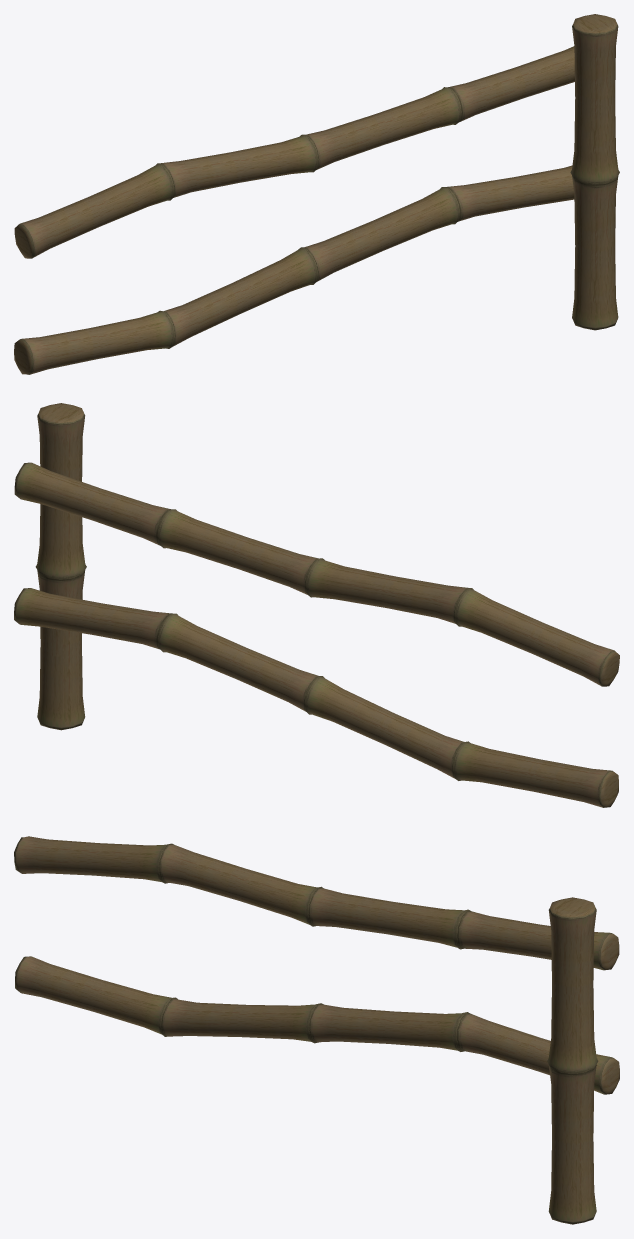
File: wall2.fbx
The picture shows the model from 3 angles, top to bottom: view 1: azimuth 30°, elevation 25°; view 2: azimuth 150°, elevation 25°; view 3: azimuth 330°, elevation 25°; orthographic projection. The views are drawn at different scales.
Visible parts, largest first — view 1: pCylinder65; view 2: pCylinder65; view 3: pCylinder65.
Boxes of the visible parts, left/top/right/bottom form: pCylinder65: left=14, top=14, right=619, bottom=374; pCylinder65: left=14, top=403, right=619, bottom=807; pCylinder65: left=14, top=836, right=619, bottom=1224.
Size of the model in its own units: 431 by 214 by 56.04.
Materials: 1 (1 with a texture image).
